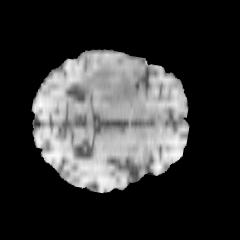glioma: (76, 54, 144, 106)
